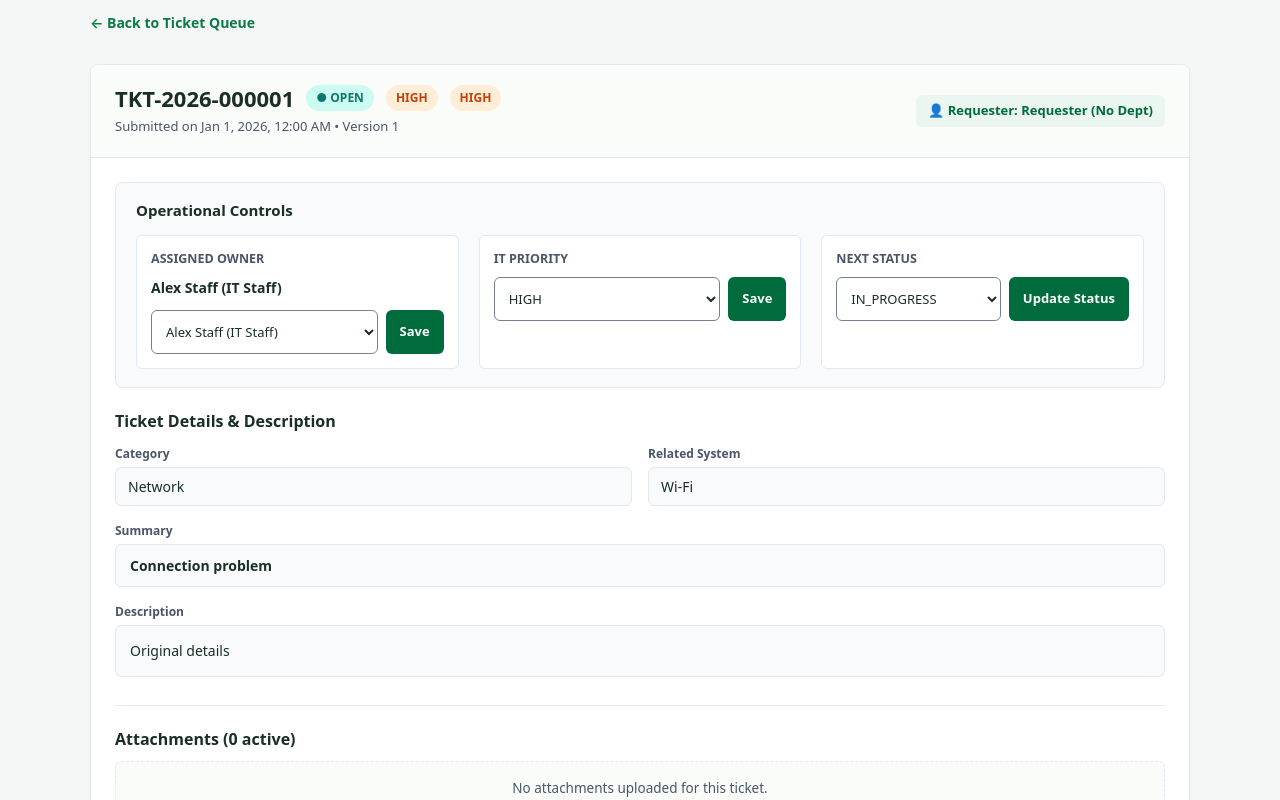
Test case: Lab 4 workflow feedback and public history › refreshes summary, actual resolution time and history after successful formal resolution
Select "RESOLVED (Requires confirmation)" in the dropdown labelled "Next Status" at (919, 299), box [836,277,1001,321]
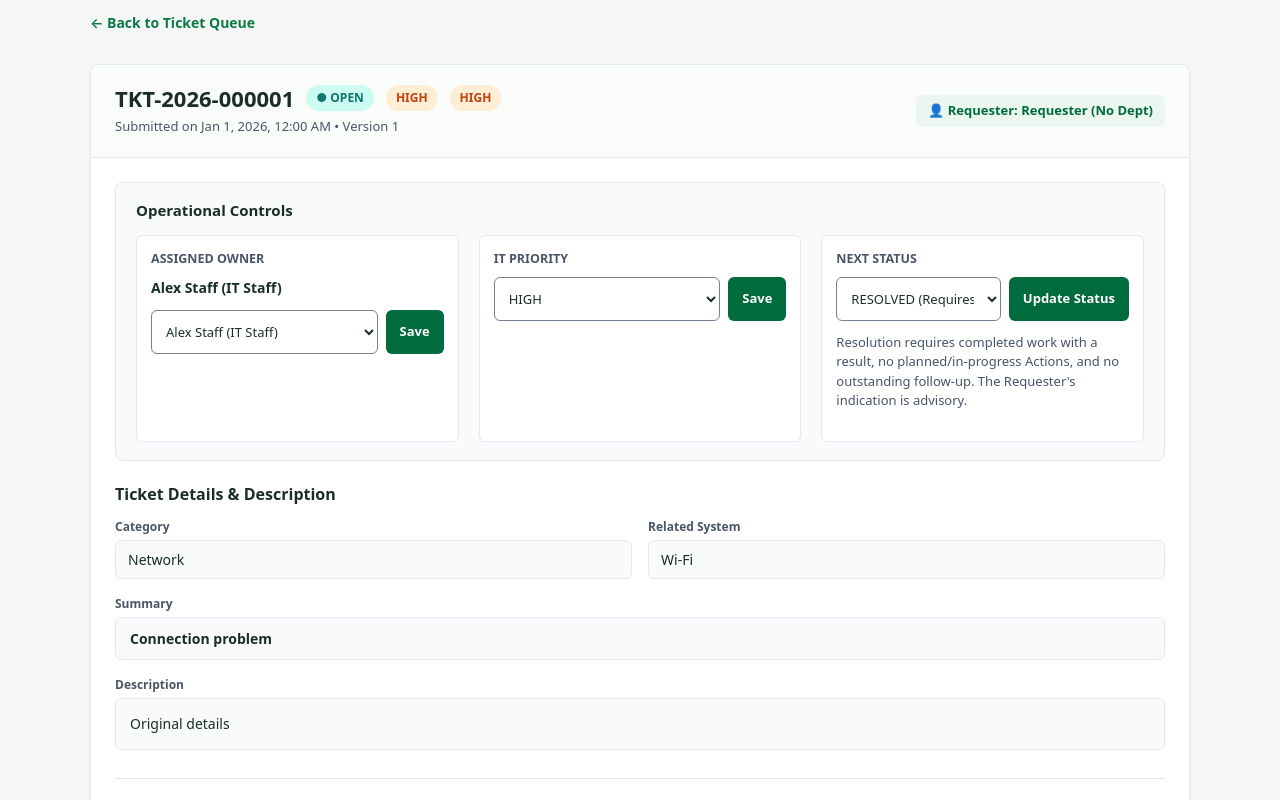
Click the button with test id "btn-save-status".
click(1069, 299)  # box [1009,277,1129,321]
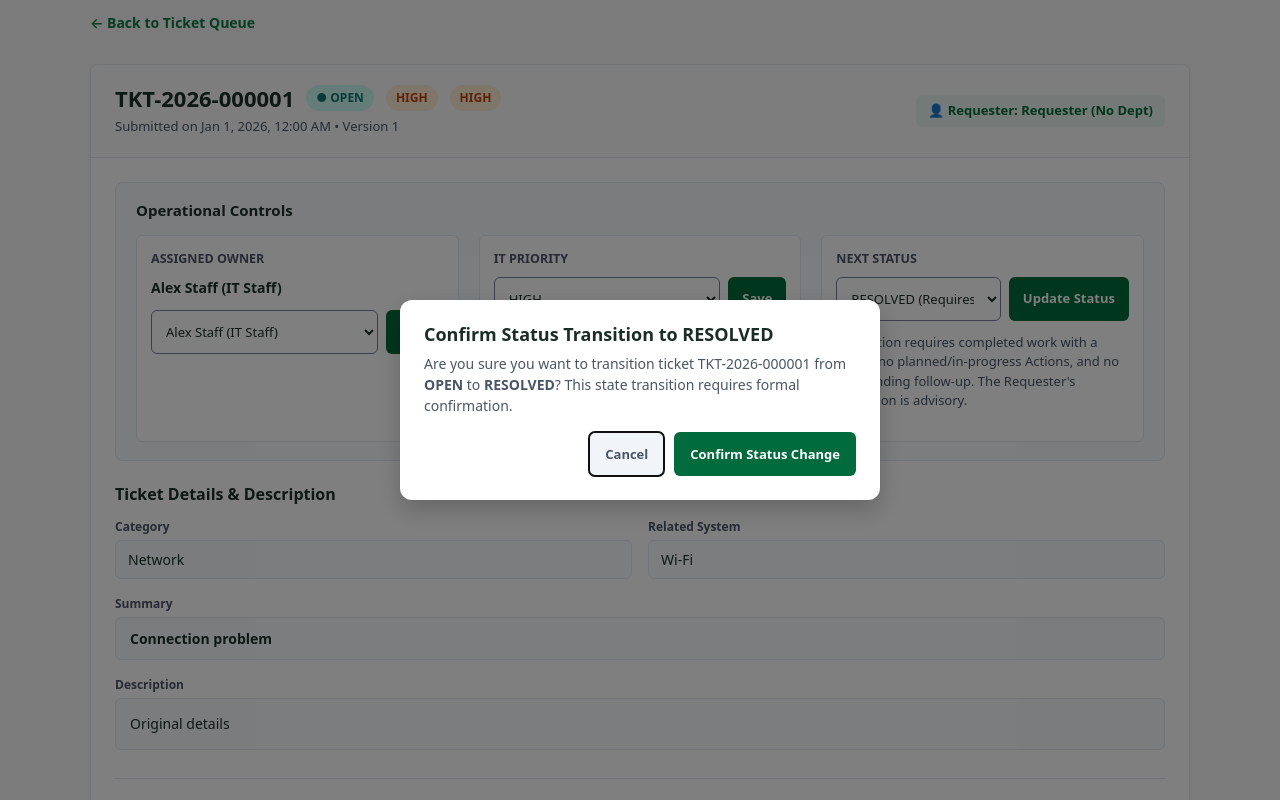
Now the dialog is shown, box [400,300,880,500]
Click the button "Confirm Status Change".
click(765, 454)  # box [674,432,856,476]
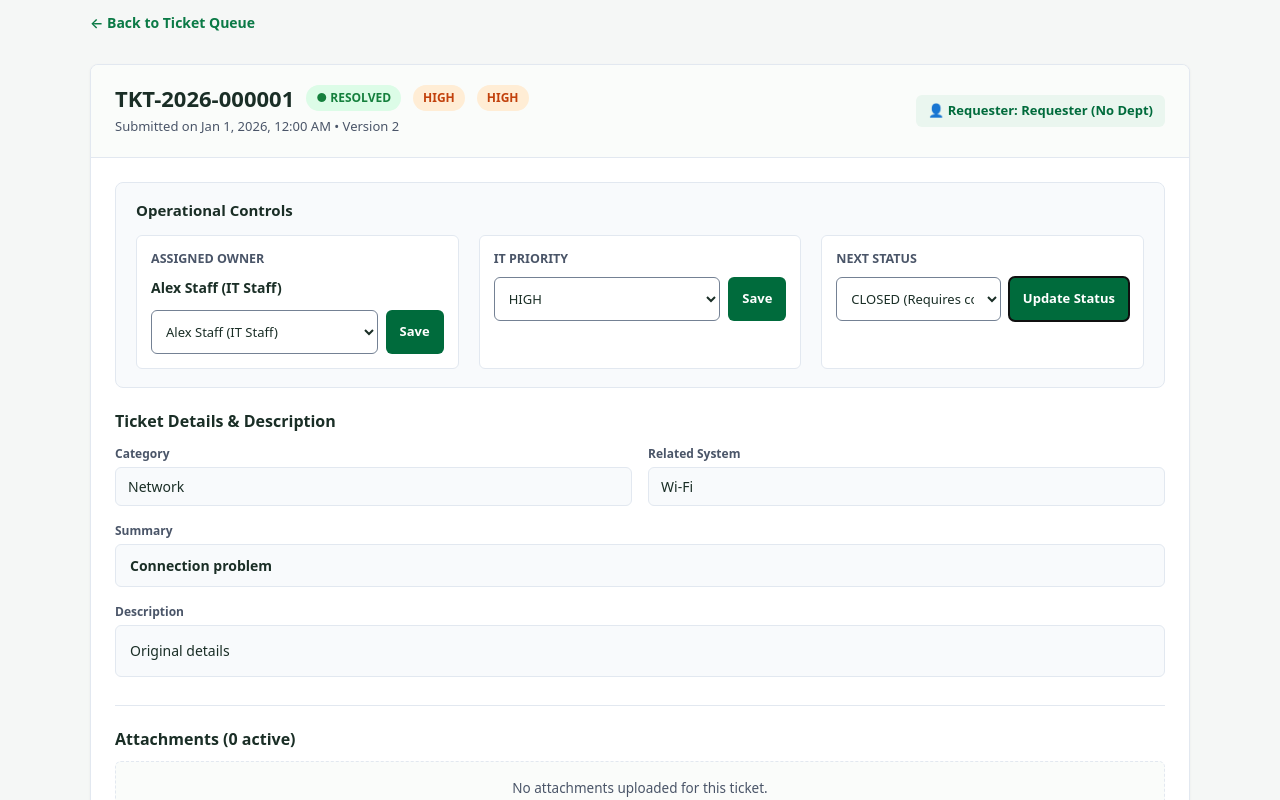
Now the dialog is gone
